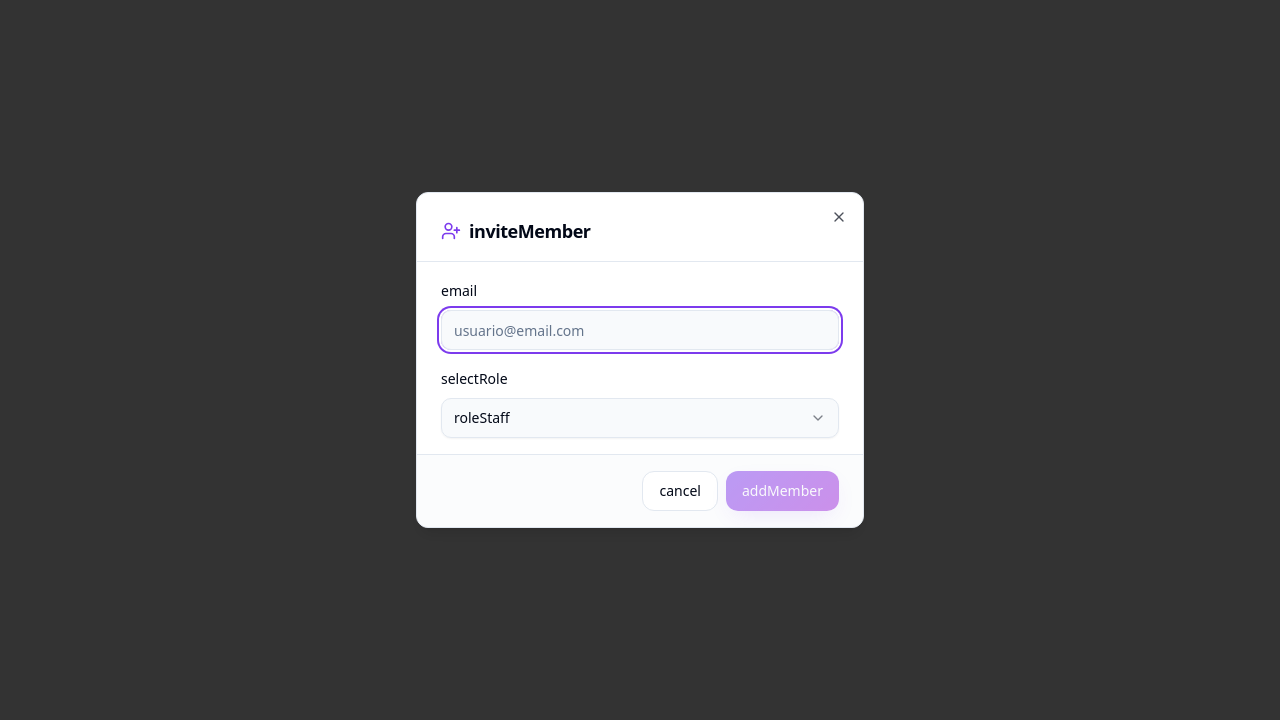
it: InviteMemberDialog › should enable add button when email is entered
The image size is (1280, 720).
Type "test@example.com" into the field labelled "email" at (640, 330), box [441,310,839,350]
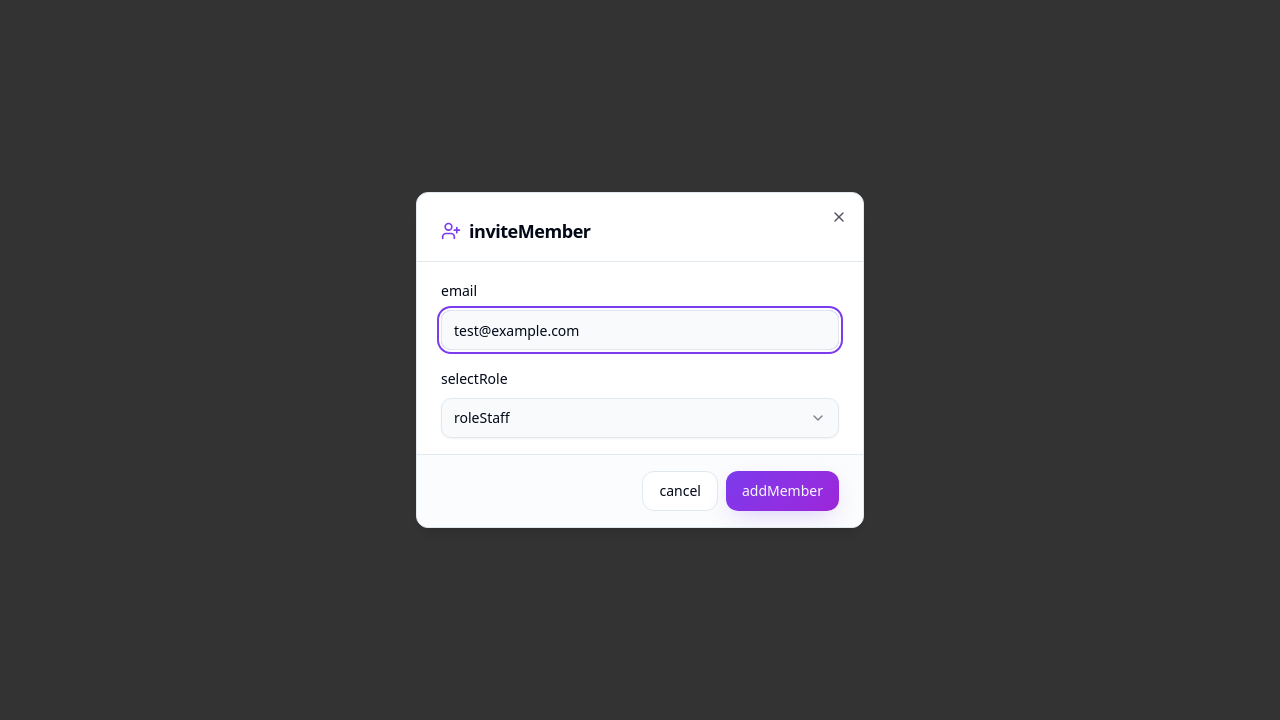
Result: the button "addMember" is enabled at [726,471,839,511]
